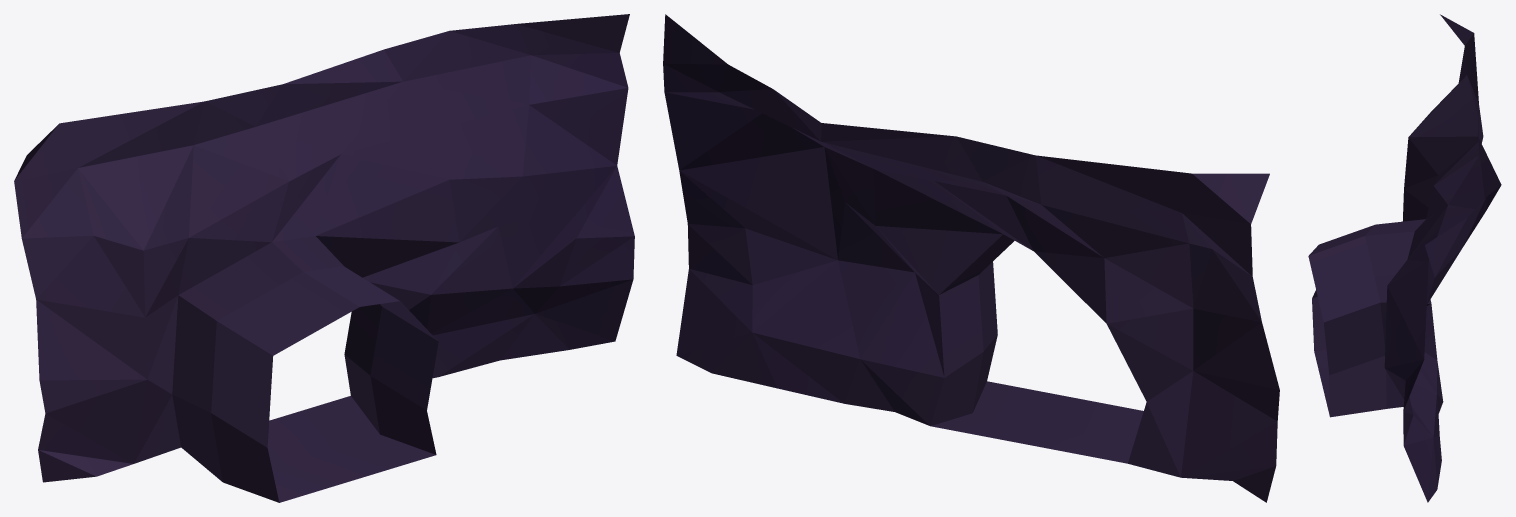
File: CaveWallHole.fbx
3 renders of one model, left to right at view 1: azimuth 30°, elevation 25°; view 2: azimuth 150°, elevation 25°; view 3: azimuth 270°, elevation 25°, orthographic. The views are drawn at different scales.
Visible parts, largest first — view 1: Plane.053; view 2: Plane.053; view 3: Plane.053.
Part boxes in pixels (bbox=[...]): Plane.053: bbox=[14, 14, 634, 502]; Plane.053: bbox=[663, 14, 1279, 502]; Plane.053: bbox=[1308, 14, 1501, 502].
Bounding box in the file's own units: 2565 × 1389 × 896.
